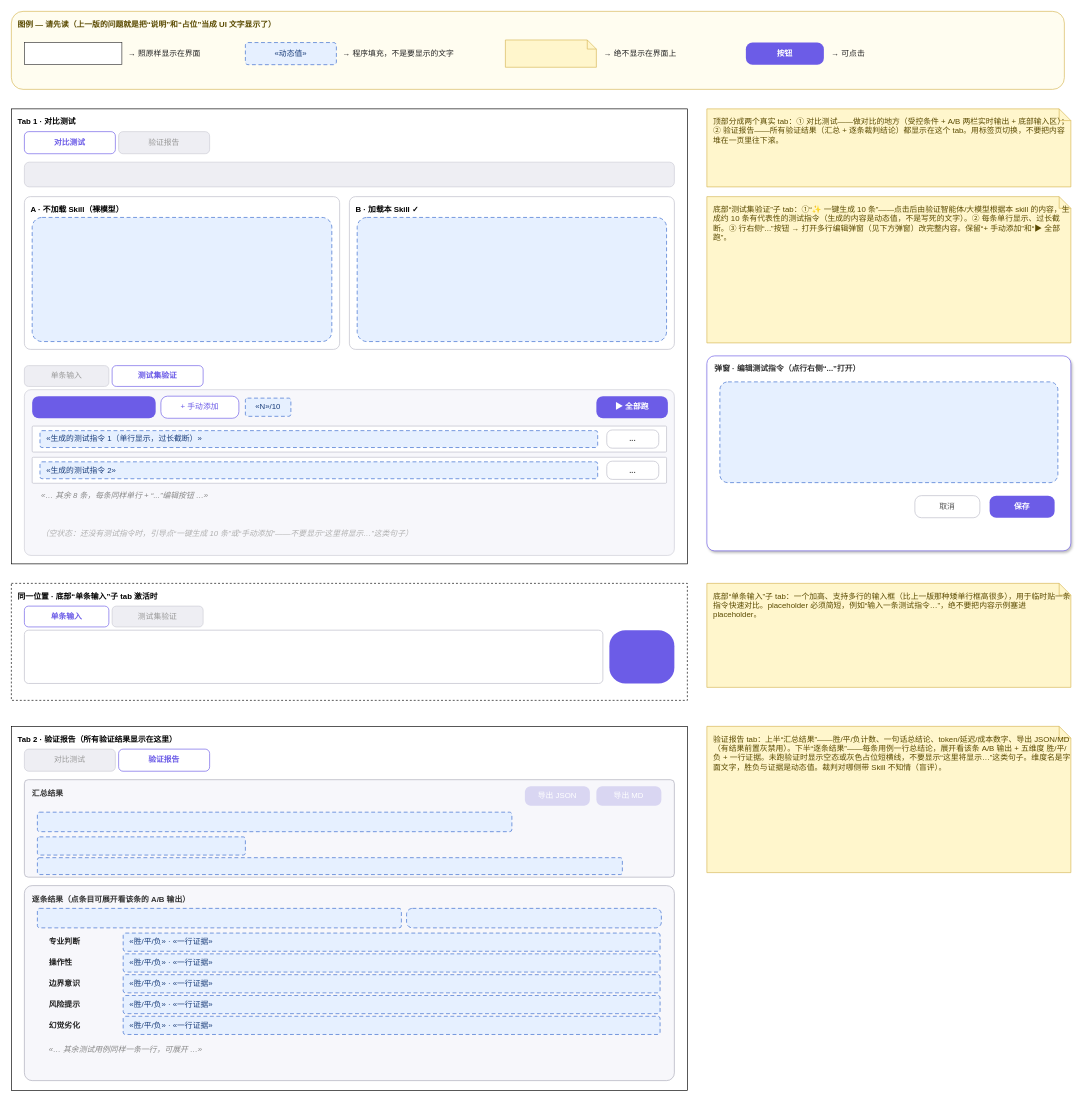
Some shapes in this 1086 by 1102 pixel diagram are drawn without their labels. Each missing label, with the centre of its shape:
Skill 赢 «—» · 平 «—» · 负 «—»: the point at 141,845
Token：A «—» / B «—»（B 多 «—»，skill 激活时） · 延迟：A «—» / B «—» · 成本：«仅在配了定价时显示»: the point at 329,866
«总结论：有帮助 / 无明显差异 / 拖累了» — «一句话总评»: the point at 274,822
«总结论：有帮助/无差异/拖累»: the point at 533,918
«模型 A 的实时流式输出»: the point at 182,279
«模型 B 的实时流式输出»: the point at 512,279
«测试指令 1（截断）»: the point at 219,918
«该条测试指令的完整内容（多行，可在此编辑）»: the point at 888,432
▶ 运行对比: the point at 641,656
✨ 一键生成 10 条: the point at 93,407
受控条件：两侧 «模型名» · temp «0.7» · 唯一差异 = skill（SKILL.md）: the point at 349,174
字面 UI 文案: the point at 73,53
开发者说明: the point at 550,53
输入一条测试指令…（支持多行；占位文字保持简短）: the point at 313,656
